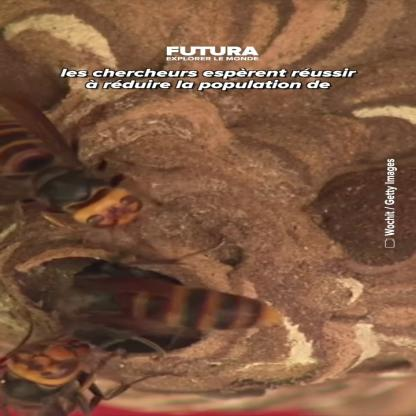hornet: (0, 257, 326, 416), (0, 88, 153, 230)
